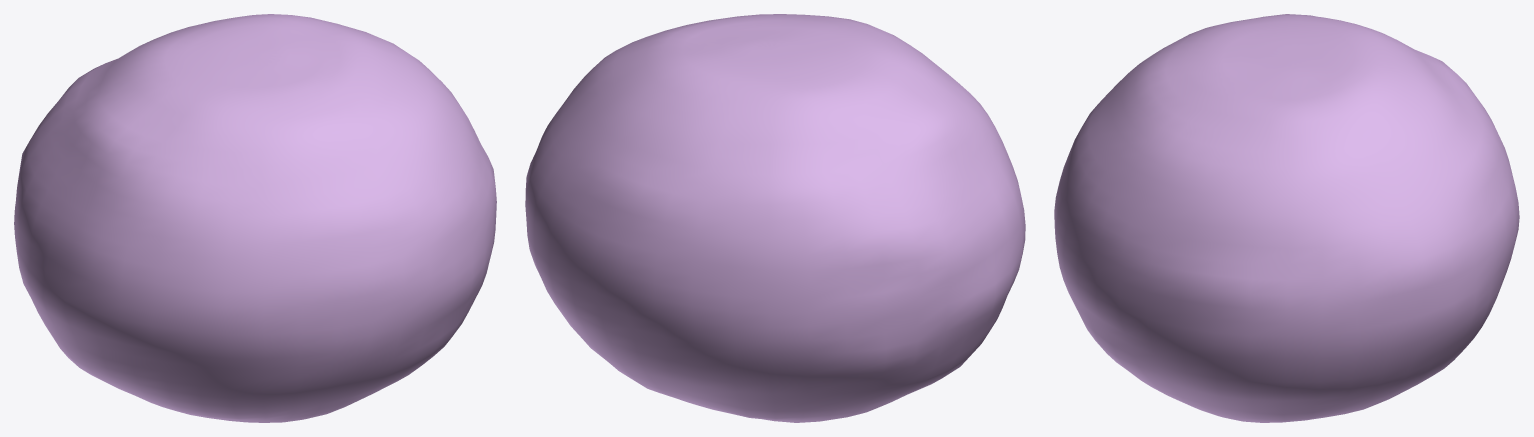
File: LargeTurnip.fbx
3 renders of one model, left to right at view 1: azimuth 30°, elevation 25°; view 2: azimuth 150°, elevation 25°; view 3: azimuth 270°, elevation 25°, orthographic. The views are drawn at different scales.
Visible parts, largest first — view 1: pSphere11; view 2: pSphere11; view 3: pSphere11.
Part boxes in pixels (left/top/right/bottom): pSphere11: left=14, top=14, right=496, bottom=422; pSphere11: left=525, top=14, right=1025, bottom=422; pSphere11: left=1054, top=14, right=1519, bottom=422.
Bounding box in the file's own units: 6.53 × 5.03 × 6.17.
